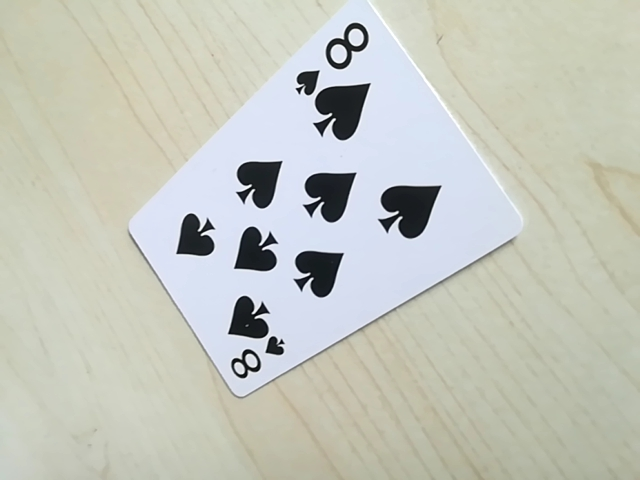ht 8: (300, 14, 375, 86), (222, 337, 288, 389)
